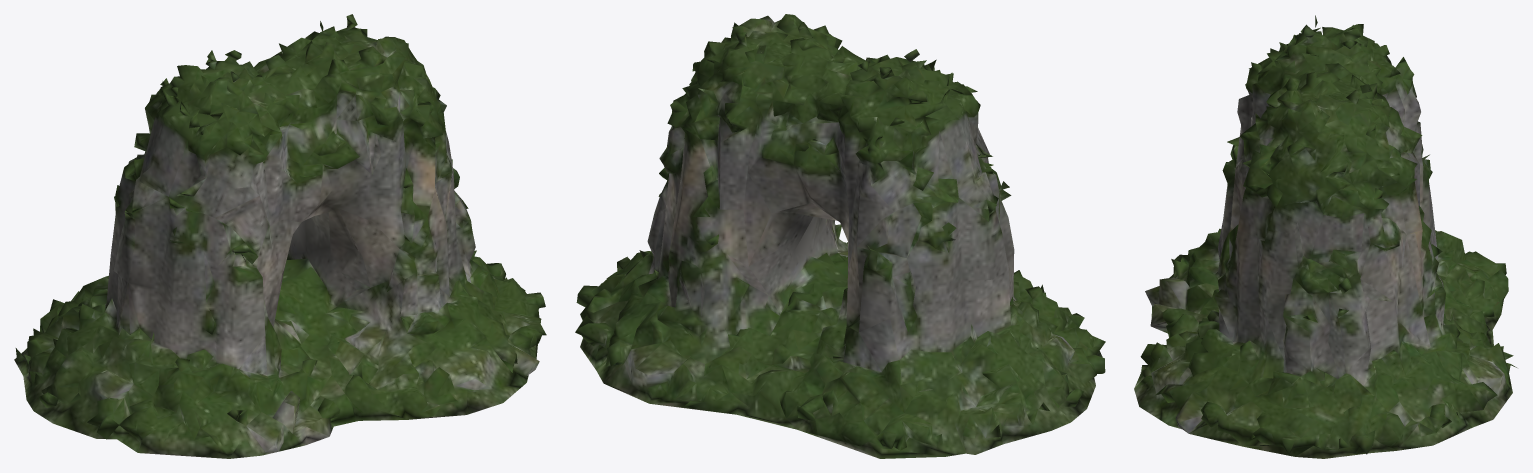
File: av_gate_xfar.glb
3 views of the same model, side by side, from view 1: azimuth 30°, elevation 25°; view 2: azimuth 150°, elevation 25°; view 3: azimuth 270°, elevation 25° (orthographic). The views are drawn at different scales.
Visible parts, largest first — view 1: av_gate; view 2: av_gate; view 3: av_gate.
Boxes of the visible parts, x1=… form: av_gate: x1=14, y1=14, x2=546, y2=458; av_gate: x1=575, y1=14, x2=1105, y2=458; av_gate: x1=1134, y1=15, x2=1516, y2=458.
Size of the model in its own units: 1.89 by 1.17 by 1.37.
1 material, 1 textured.
